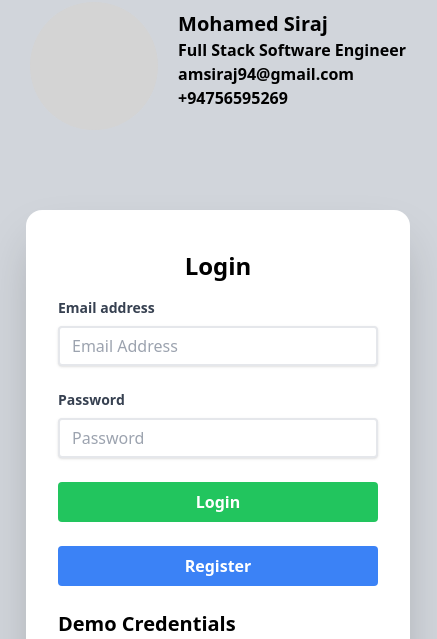
it: login page › login page form submit › unsuccessful submit
Note: click button
Click the button "Login" at (218, 502), box left=58, top=482, right=378, bottom=522
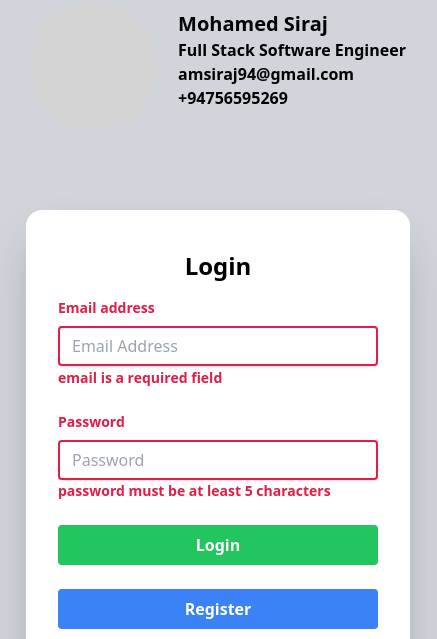
Result: the text "email is a required field" is shown at left=58, top=368, right=222, bottom=387
Result: the text "password must be at least 5 characters" is shown at left=58, top=481, right=378, bottom=501
